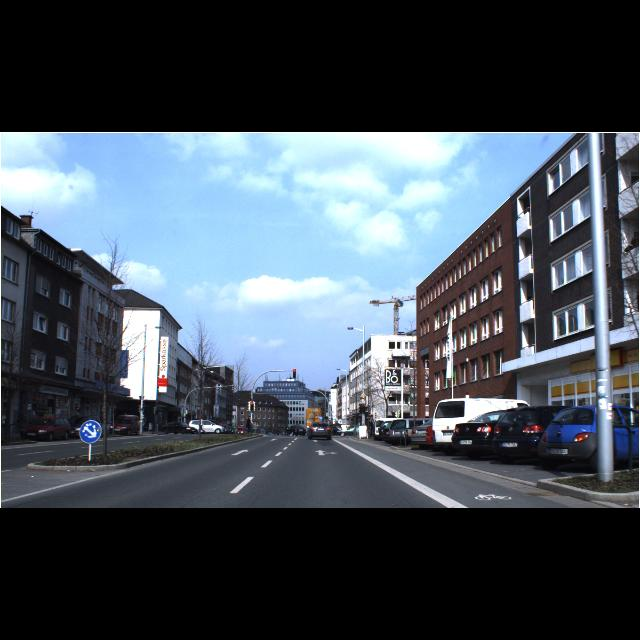mandatory: (79, 420, 101, 444)
